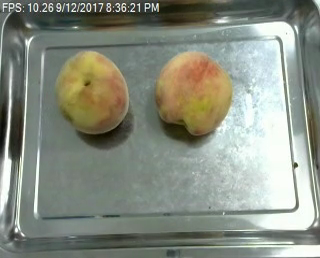Peach: (154, 50, 233, 135), (54, 50, 129, 134)
